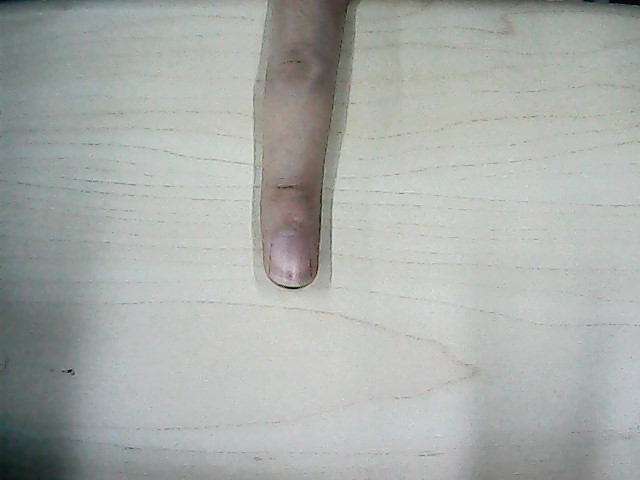nail: (272, 234, 311, 288)
